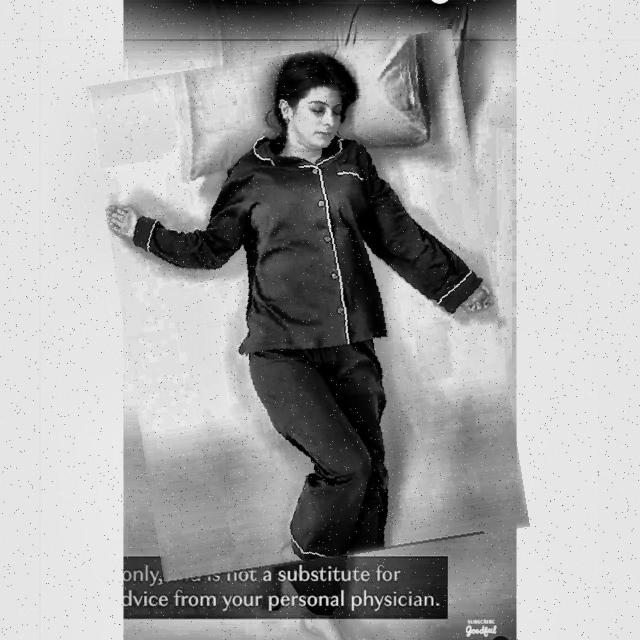Supine: (106, 53, 495, 563)
